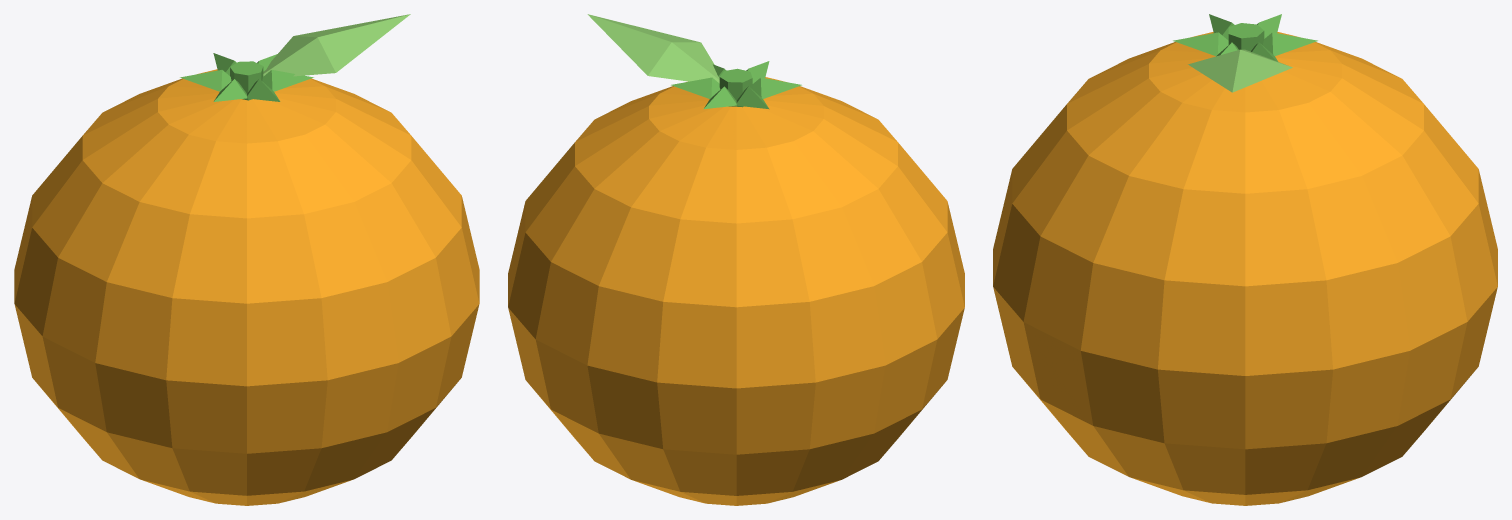
The model's file is orange.glb.
3 renders of one model, left to right at view 1: azimuth 30°, elevation 25°; view 2: azimuth 150°, elevation 25°; view 3: azimuth 270°, elevation 25°, orthographic. The views are drawn at different scales.
Parts seen in each view (by area): view 1: faceted orange, orange leaf, orange top nub, orange calyx point.004, orange calyx point.001; view 2: faceted orange, orange leaf, orange top nub, orange calyx point.005, orange calyx point.002; view 3: faceted orange, orange leaf, orange top nub, orange calyx point, orange calyx point.003.
Part boxes in pixels (x1,y1,x2,y2): faceted orange: (14,69,479,505); orange leaf: (263,14,410,76); orange top nub: (230,61,263,100); orange calyx point.004: (180,70,231,91); orange calyx point.001: (262,70,313,91); faceted orange: (508,77,964,505); orange leaf: (587,14,719,83); orange top nub: (719,68,752,107); orange calyx point.005: (752,77,801,98); orange calyx point.002: (671,77,720,98); faceted orange: (993,32,1497,505); orange leaf: (1188,49,1292,92); orange top nub: (1228,23,1264,51); orange calyx point: (1173,32,1228,55); orange calyx point.003: (1262,32,1317,55).
Bounding box in the file's own units: 1.14 × 1.16 × 1.12.
